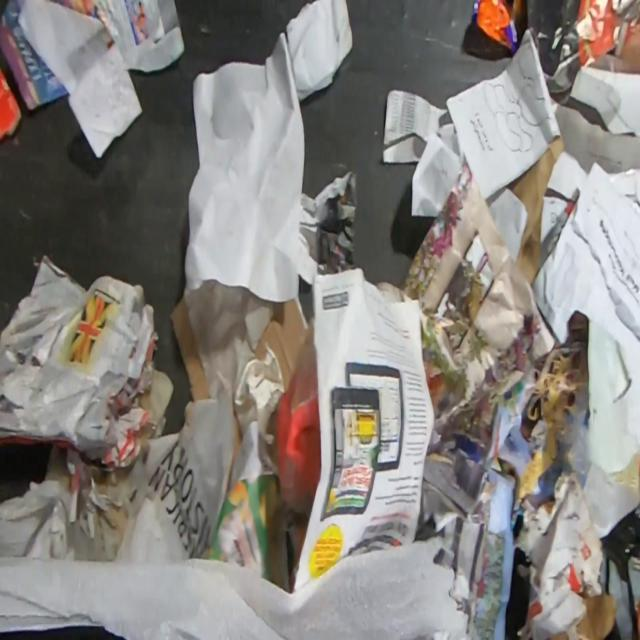cardboard: (514, 471, 617, 640), (507, 135, 566, 287), (256, 299, 312, 392), (169, 294, 211, 404)
